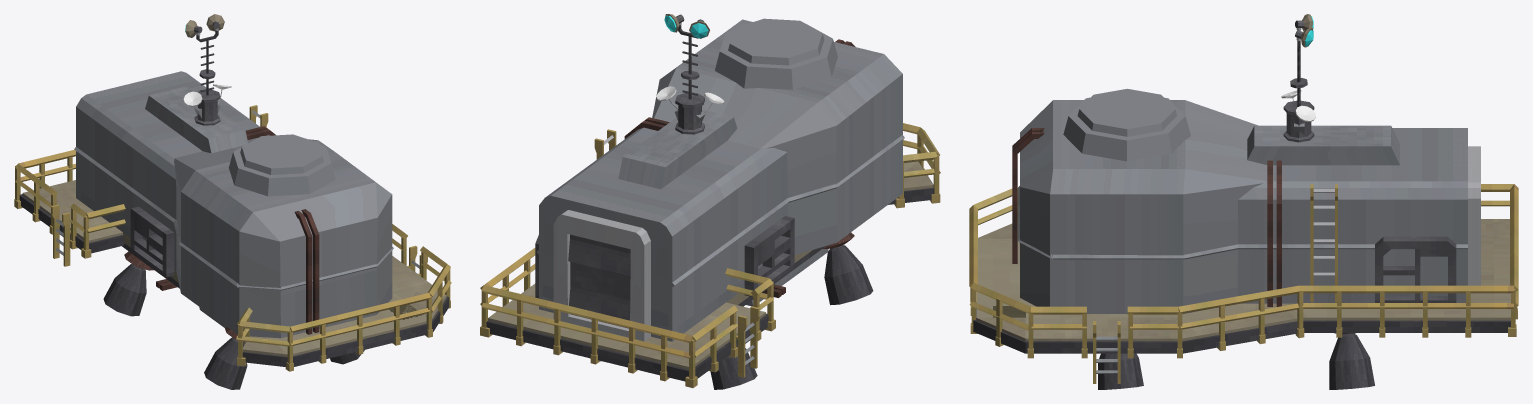
The model's file is shuttle.glb.
3 views of the same model, side by side, from view 1: azimuth 30°, elevation 25°; view 2: azimuth 150°, elevation 25°; view 3: azimuth 270°, elevation 25° (orthographic). The views are drawn at different scales.
Parts seen in each view (by area): view 1: cube_174, cube_172, cube_171, cylinder_170, cylinder_169, cube_176, cylinder_292, cube_180, cube_187, cylinder_298, cube_177, cube_263 (+13 smaller); view 2: cube_174, cube_172, cube_173, cube_171, cylinder_170, cylinder_169, cube_176, cube_191, cylinder_298, cube_32, cube_180, cube_236 (+14 smaller); view 3: cube_174, cube_172, cube_176, cube_171, cylinder_170, cylinder_169, cube_177, cube_189, cylinder_295, cube_200, cube_173, cube_185 (+20 smaller).
Part boxes in pixels (box(x1,y1,x2,y2)): cube_174: box(174, 135, 392, 338); cube_172: box(76, 71, 268, 270); cube_171: box(145, 86, 247, 153); cylinder_170: box(240, 134, 323, 174); cylinder_169: box(229, 144, 335, 196); cube_176: box(57, 180, 426, 356); cylinder_292: box(103, 264, 146, 316); cube_180: box(22, 184, 122, 242); cube_187: box(293, 323, 432, 366); cylinder_298: box(204, 337, 247, 389); cube_177: box(392, 256, 446, 302); cube_263: box(290, 293, 430, 332); cube_174: box(652, 19, 902, 254); cube_172: box(539, 127, 787, 341); cube_173: box(553, 210, 650, 341); cube_171: box(618, 109, 737, 189); cylinder_170: box(728, 18, 824, 65); cylinder_169: box(715, 24, 837, 89); cube_176: box(488, 161, 917, 360); cube_191: box(486, 321, 688, 381); cylinder_298: box(824, 245, 873, 305); cube_32: box(570, 234, 630, 328); cube_180: box(650, 302, 765, 369); cube_236: box(482, 285, 692, 342); cube_174: box(1020, 100, 1267, 314); cube_172: box(1237, 128, 1467, 303); cube_176: box(976, 238, 1510, 320); cube_171: box(1247, 125, 1399, 165); cylinder_170: box(1077, 88, 1176, 136); cylinder_169: box(1063, 97, 1190, 161); cube_177: box(1025, 317, 1177, 341); cube_189: box(1303, 320, 1510, 332); cylinder_295: box(1329, 333, 1374, 389); cube_200: box(1299, 285, 1514, 293); cube_173: box(1468, 146, 1480, 285); cube_185: box(1025, 341, 1177, 353).
Size of the model in its own units: 1.57 by 1.9 by 2.79.
9 materials, 9 textured.
